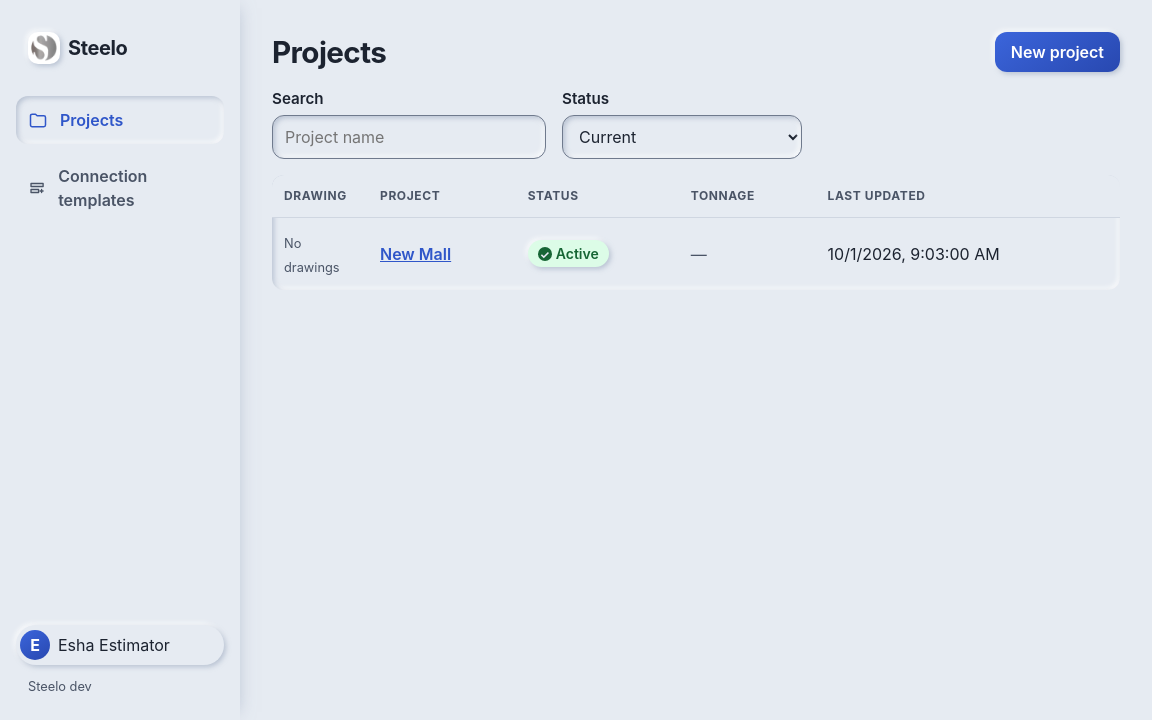
Projects list › separates archived projects behind the status filter
Check: the link "New Mall" is shown, box [380,244,451,264]
Check: the link "Old Depot" is not shown
Select "Archived" in the dropdown labelled "Status". click: x=682, y=137
box: [562,115,802,159]
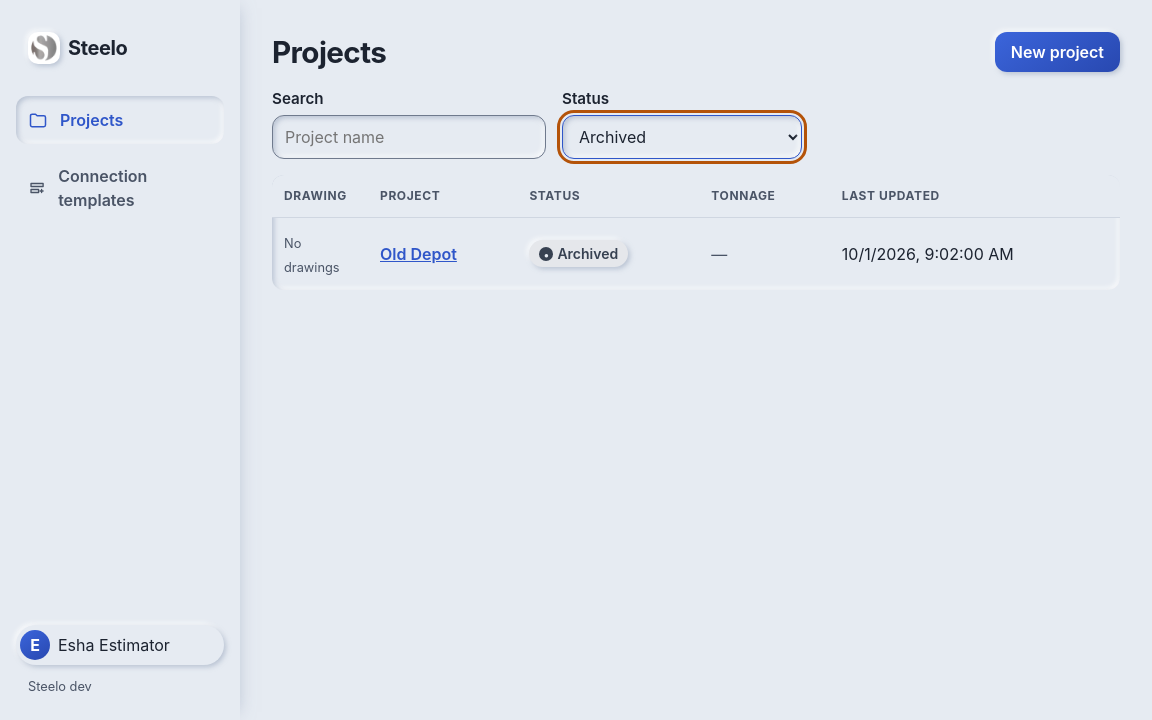
Check: the link "Old Depot" is shown, box [380,244,457,264]
